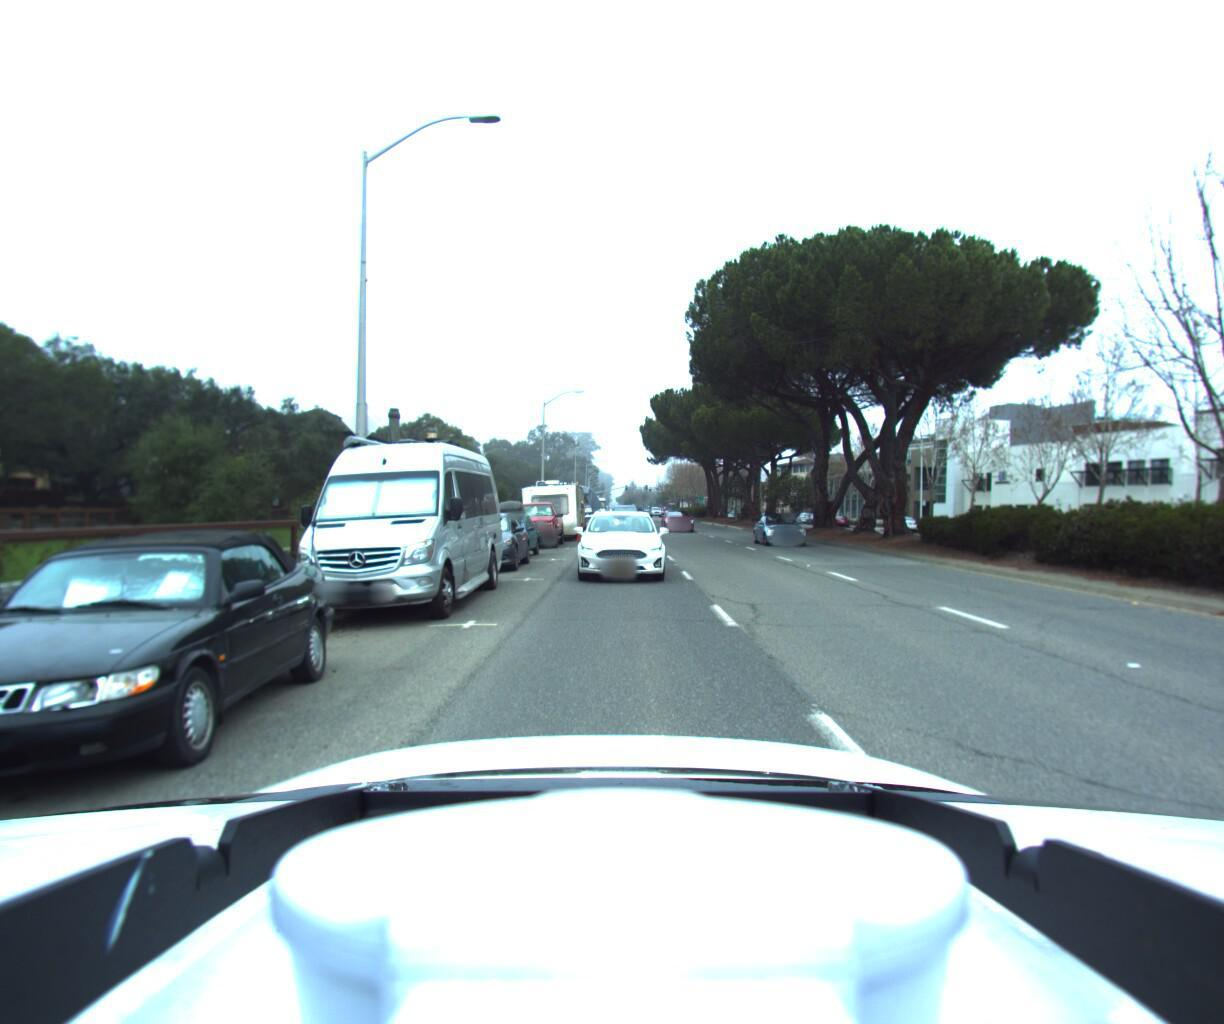car: (0, 517, 341, 845), (265, 398, 507, 625), (566, 503, 662, 580), (440, 506, 535, 570), (513, 465, 590, 544), (472, 498, 549, 555), (504, 498, 566, 549), (758, 510, 815, 547), (663, 507, 699, 532), (883, 511, 924, 532)
other_vehicle: (531, 474, 591, 537), (556, 480, 603, 532)
